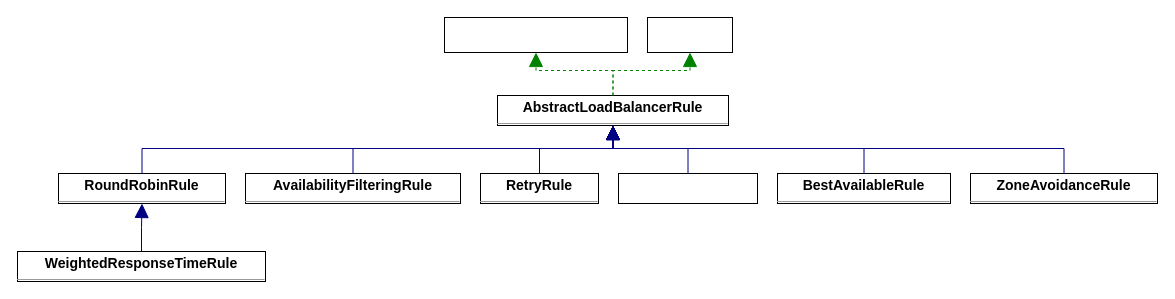
The diagram is 1175 pixels wide and 299 high, and some of its shapes have lost their labels. The box of each missing label's shape, as (x1, y1, x2, y2) in pixels:
<<interface>> IClientConfigAware: (444, 16, 628, 52)
<<interface>> IRule: (646, 16, 732, 52)
RandomRule: (618, 172, 758, 204)
